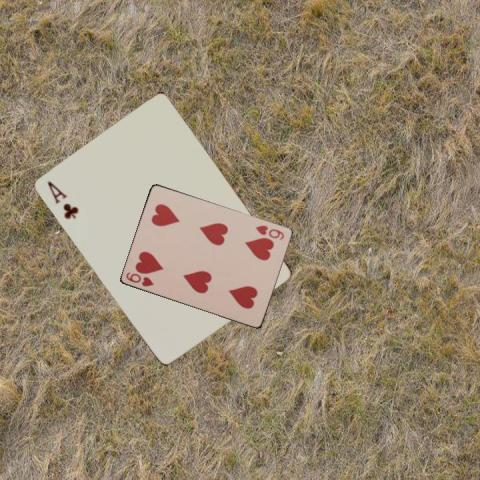6h: (253, 222, 286, 241), (124, 269, 156, 288)
Ac: (43, 178, 80, 221)
